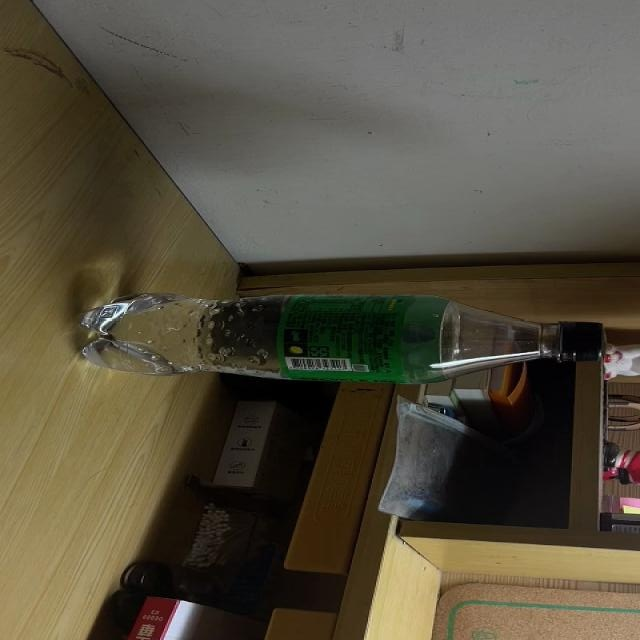Sprite: (75, 296, 604, 382)
